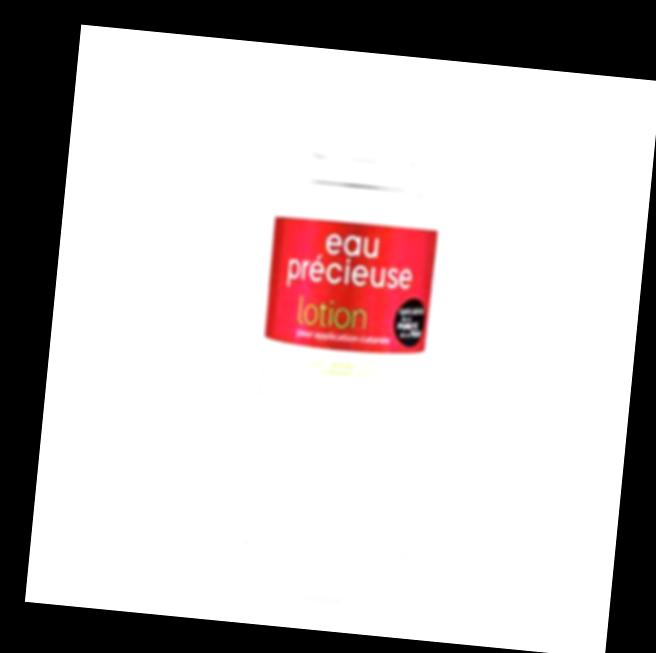cosmetic: (239, 87, 450, 586)
